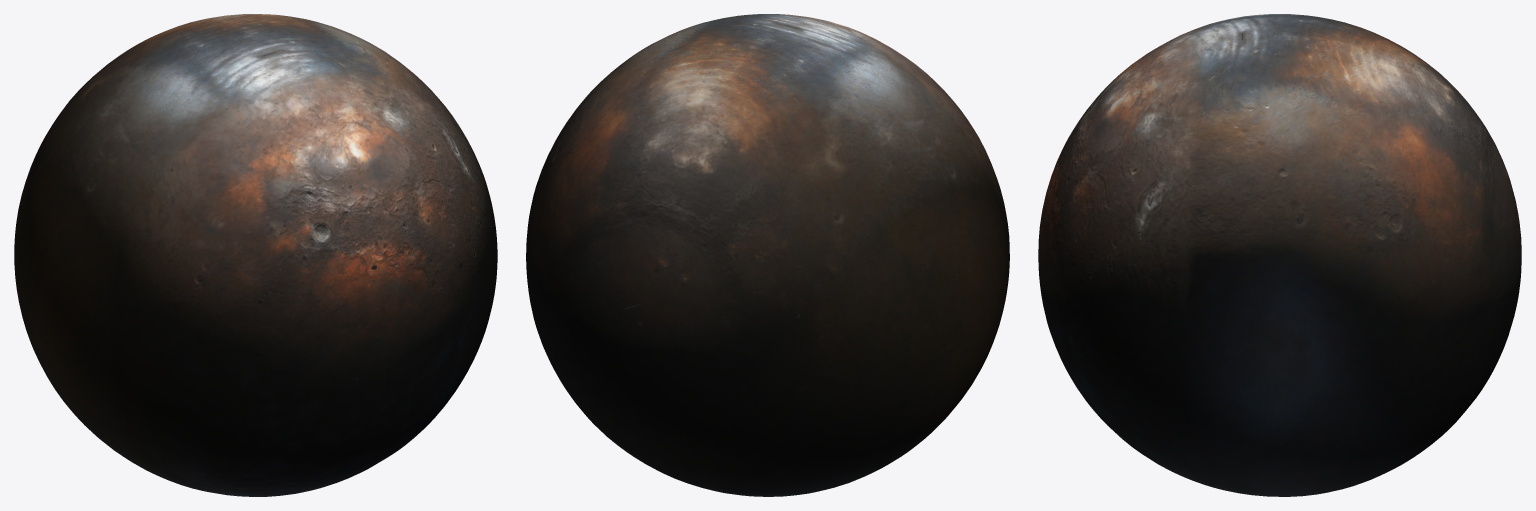
The model's file is Dark_Metal_Planet.glb.
3 views of the same model, side by side, from view 1: azimuth 30°, elevation 25°; view 2: azimuth 150°, elevation 25°; view 3: azimuth 270°, elevation 25° (orthographic).
Bounding box in the file's own units: 2 × 2 × 2.
1 material, 1 textured.
